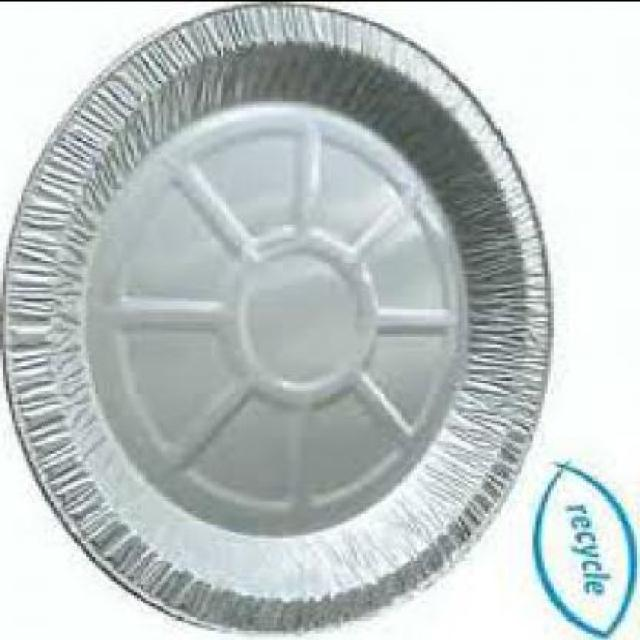metal: (6, 1, 563, 632)
